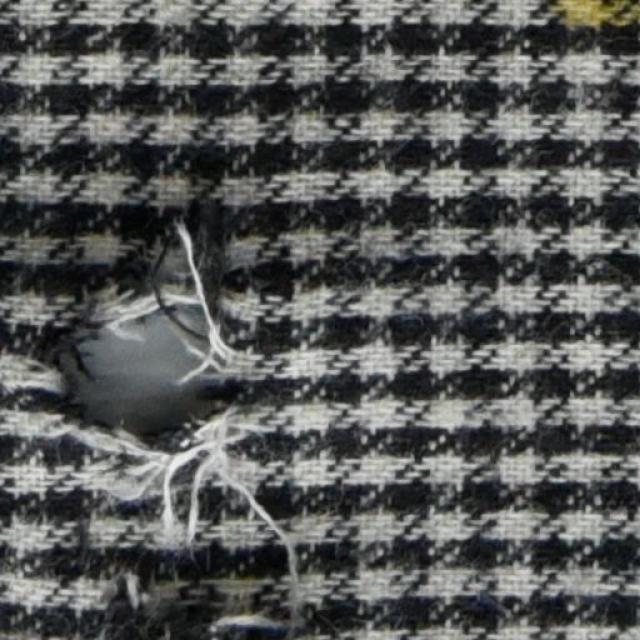Hole: (76, 321, 217, 425)
Snag: (50, 412, 316, 637)
Stain: (535, 1, 639, 51)
